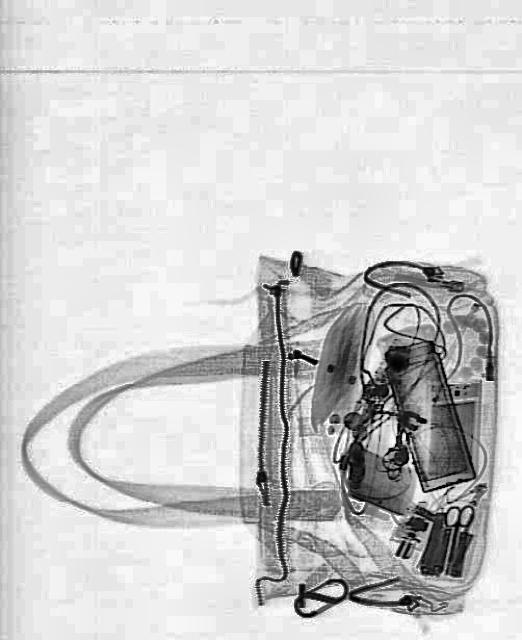Scissors: (436, 501, 474, 573)
